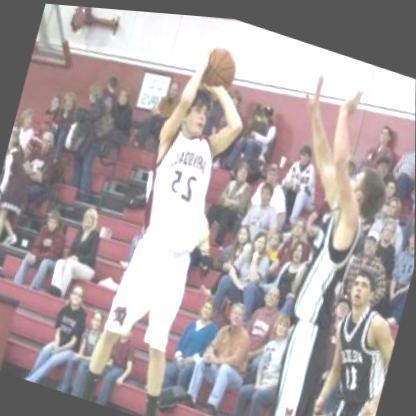basketball: (197, 37, 244, 92)
